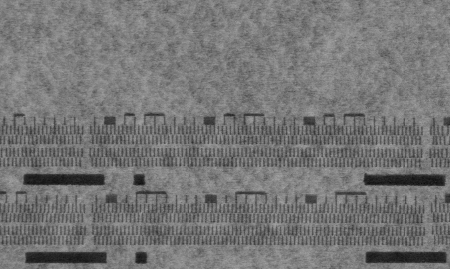Oblique printing: (435, 121, 450, 159)
